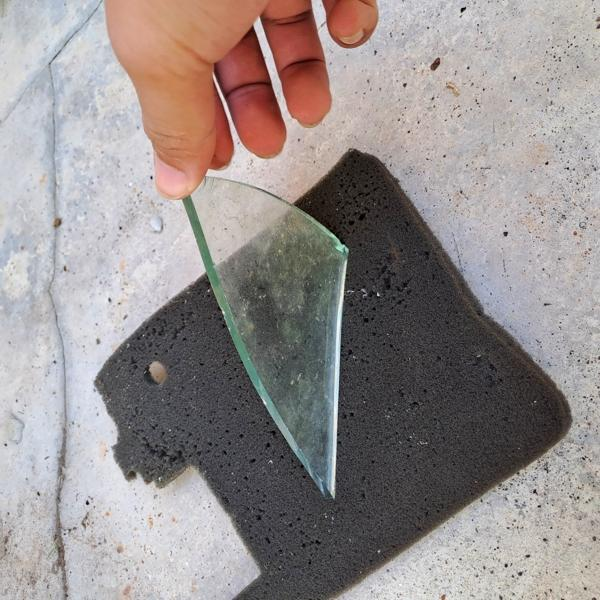Anorganik: (140, 174, 391, 521)
